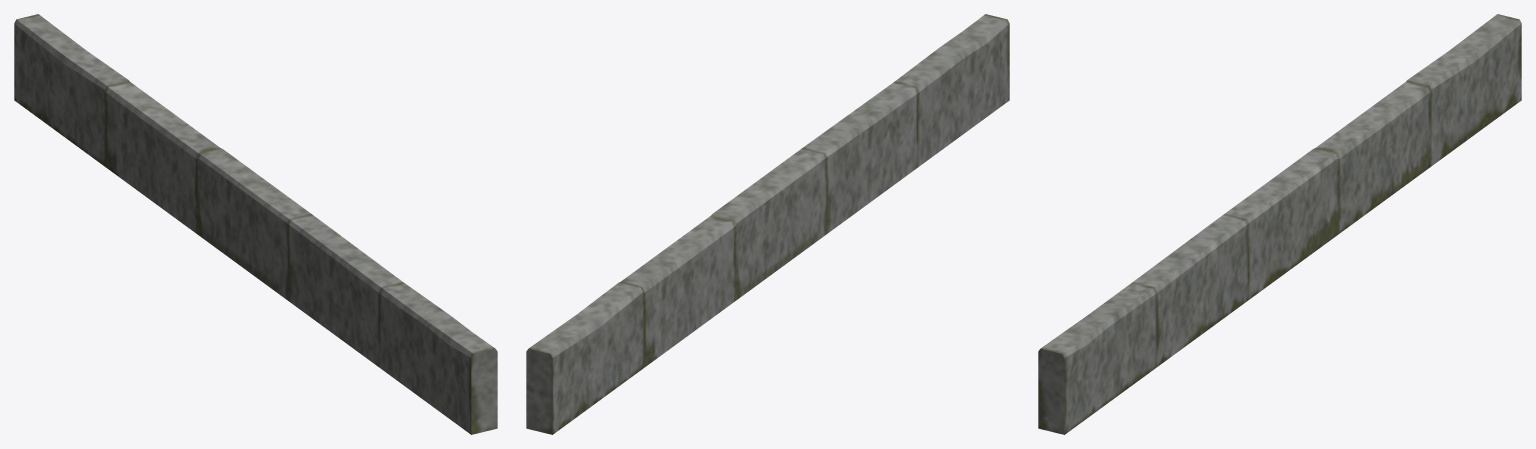
The model's file is stone_wall.fbx.
3 views of the same model, side by side, from view 1: azimuth 30°, elevation 25°; view 2: azimuth 150°, elevation 25°; view 3: azimuth 330°, elevation 25° (orthographic).
Visible parts, largest first — view 1: stone_wall; view 2: stone_wall; view 3: stone_wall.
Boxes of the visible parts, <box> form: stone_wall: <box>14,14,497,434</box>; stone_wall: <box>526,14,1009,434</box>; stone_wall: <box>1038,14,1521,434</box>.
Size of the model in its own units: 20 by 58.37 by 600.
